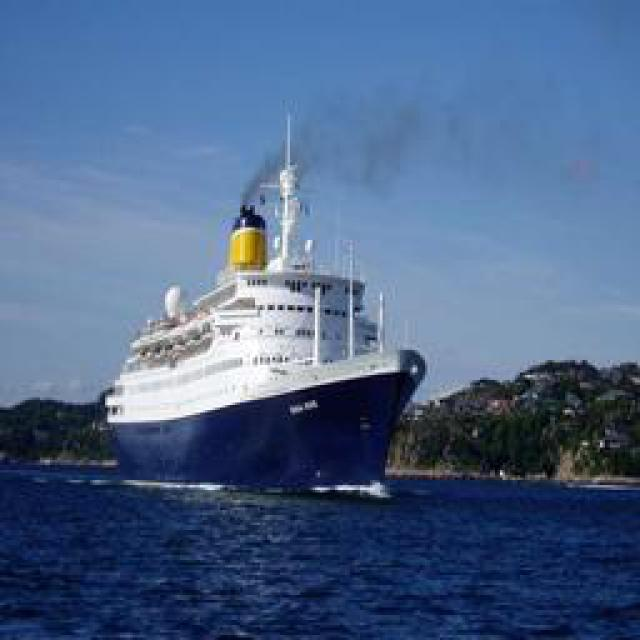Ship: (110, 84, 425, 487)
